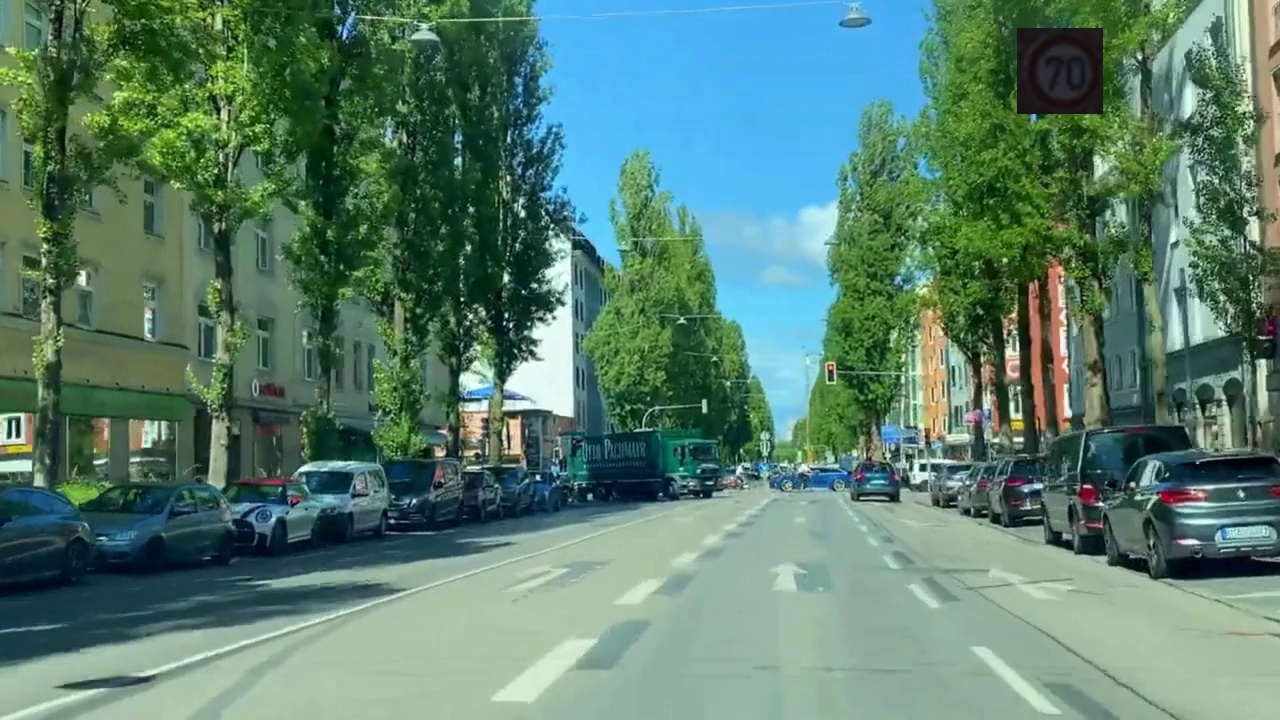Speed 70: (1017, 28, 1103, 114)
